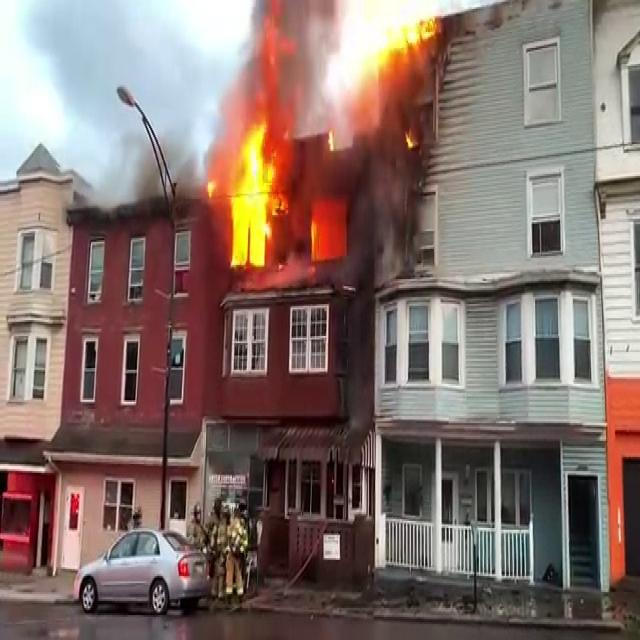Fire: (211, 108, 290, 276), (339, 0, 449, 97)
Smoke: (218, 2, 358, 124)
